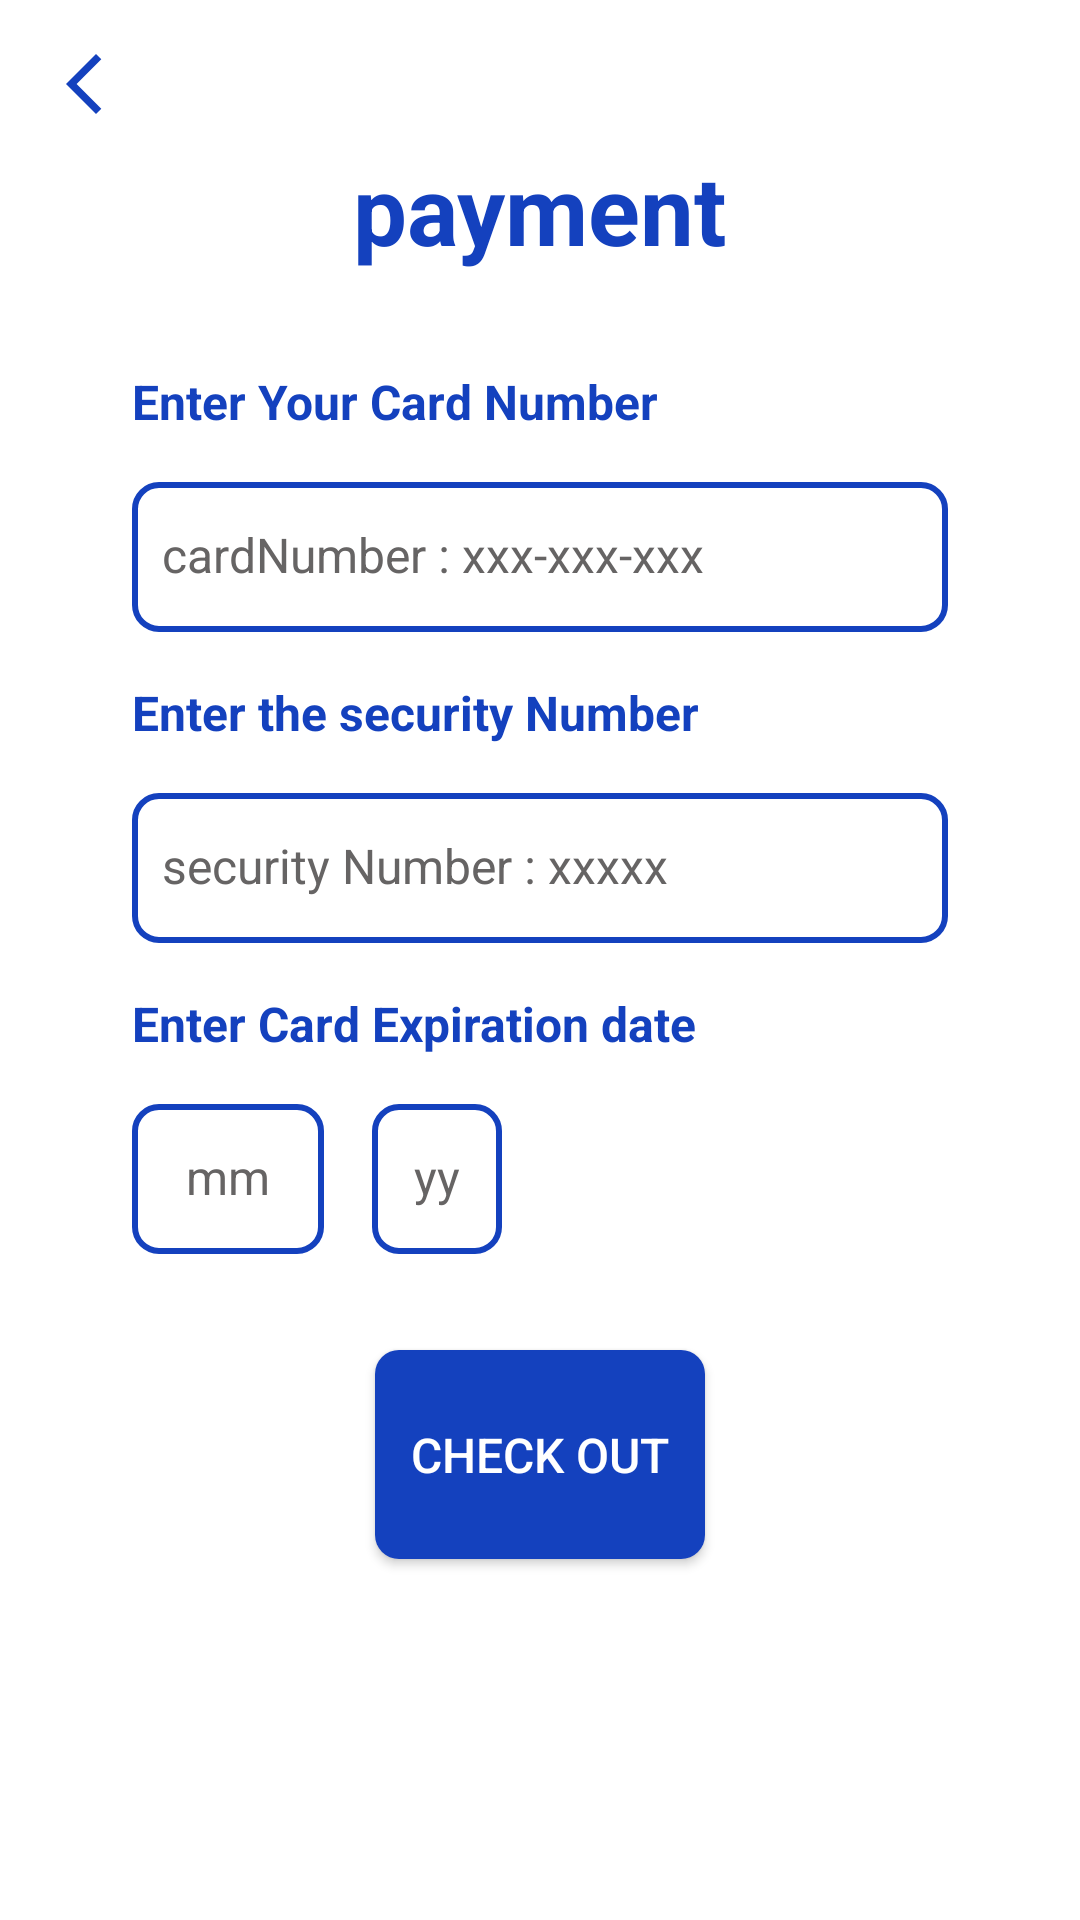

Icon click points for this 1080x1920 phone screenshot, format point (x, y):
back: point (83, 84)
